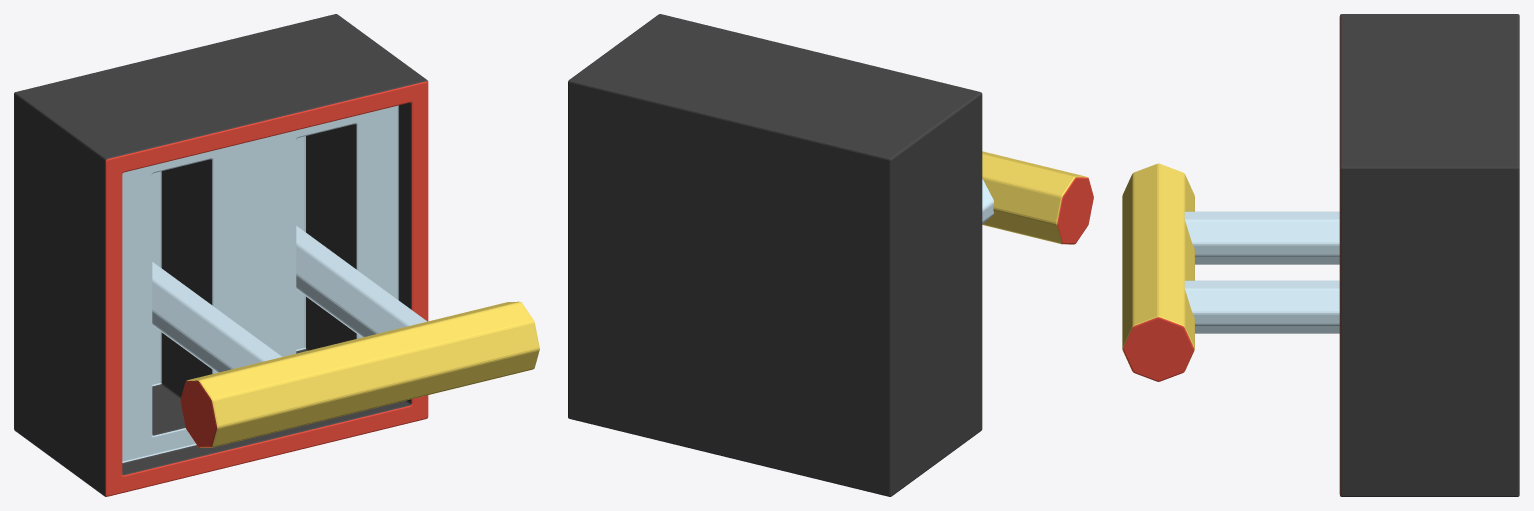
Rendered from Lever.fbx.
The picture shows the model from 3 angles, left to right: view 1: azimuth 30°, elevation 25°; view 2: azimuth 150°, elevation 25°; view 3: azimuth 270°, elevation 25°; orthographic projection. The views are drawn at different scales.
Visible parts, largest first — view 1: LeverHolder, Lever; view 2: LeverHolder, Lever; view 3: LeverHolder, Lever.
Part boxes in pixels (<box>): LeverHolder: <box>14,14,428,496</box>; Lever: <box>152,225,539,447</box>; LeverHolder: <box>568,14,982,496</box>; Lever: <box>982,151,1093,244</box>; LeverHolder: <box>1339,14,1519,496</box>; Lever: <box>1122,163,1339,381</box>.
Bounding box in the file's own units: 0.2 × 0.2 × 0.2179.
